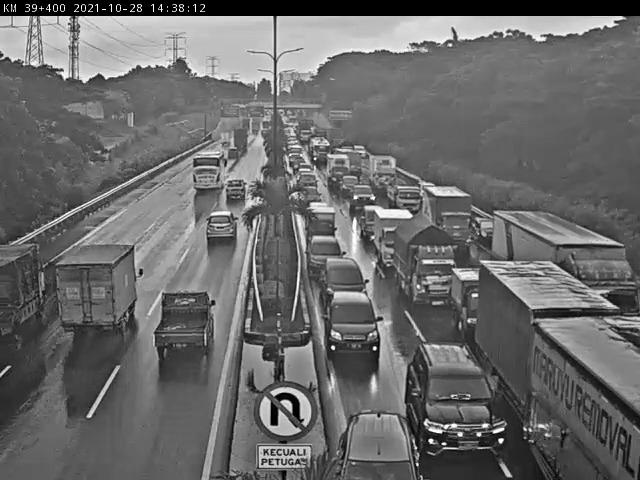big bus: (186, 149, 227, 201)
big truck: (480, 255, 594, 411), (537, 320, 640, 480), (494, 207, 640, 306), (48, 242, 145, 334), (396, 216, 455, 300), (0, 242, 46, 343), (425, 184, 482, 251), (377, 208, 419, 269), (455, 269, 493, 334)
car: (409, 340, 497, 458), (150, 287, 217, 364), (333, 413, 415, 471), (329, 289, 383, 359), (322, 256, 378, 318), (307, 233, 351, 274), (205, 207, 244, 244), (305, 201, 339, 235), (226, 176, 251, 203)
